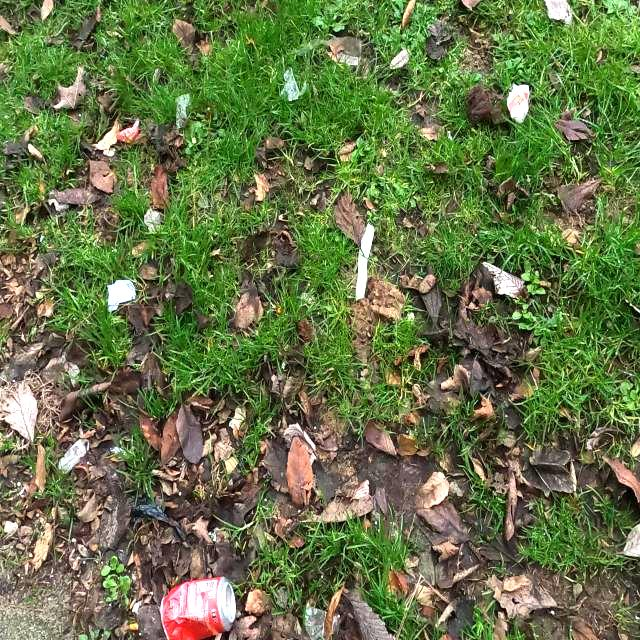Metal: (160, 574, 237, 640)
Plastic: (304, 604, 340, 640), (105, 278, 136, 312), (506, 82, 530, 124), (278, 66, 306, 102), (116, 115, 140, 143), (173, 92, 190, 130)
